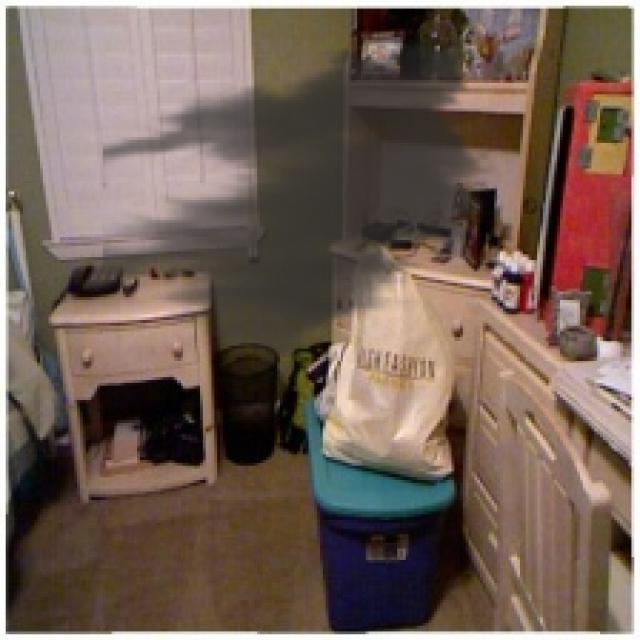smoke: (103, 23, 503, 368)
